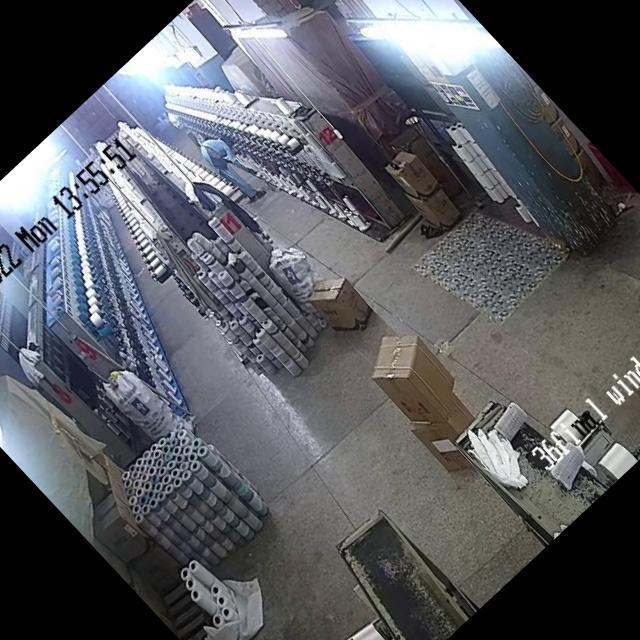person: (196, 125, 272, 203)
